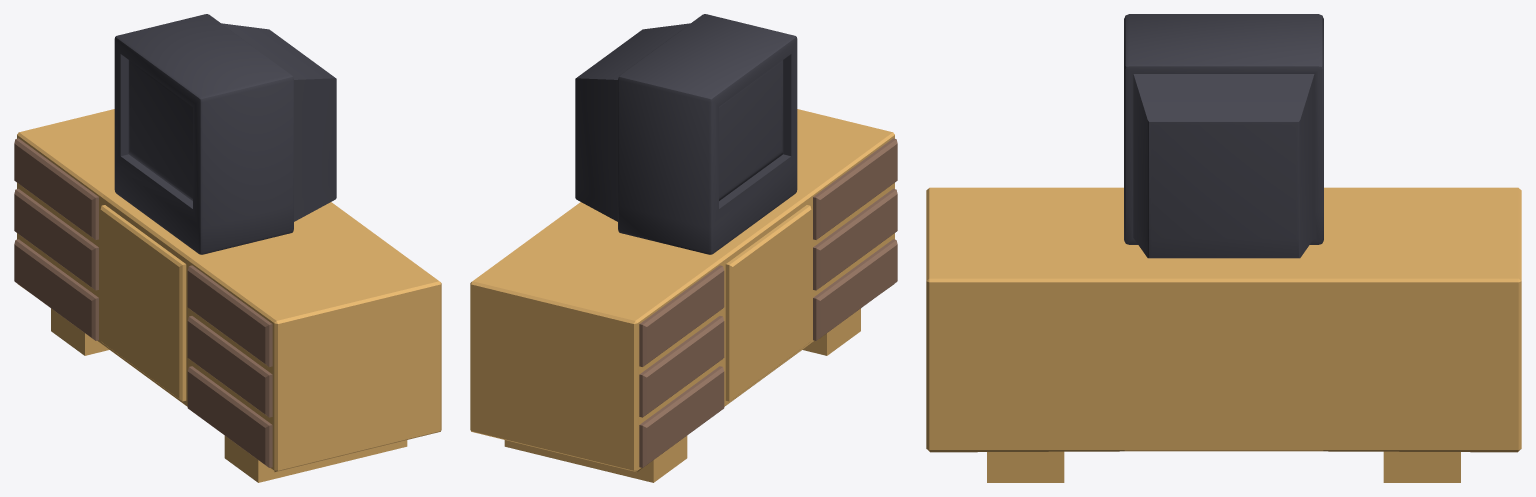
The model's file is MP_Environ_TV.fbx.
The picture shows the model from 3 angles, left to right: view 1: azimuth 30°, elevation 25°; view 2: azimuth 150°, elevation 25°; view 3: azimuth 270°, elevation 25°; orthographic projection. The views are drawn at different scales.
Visible parts, largest first — view 1: Console, Cube; view 2: Console, Cube; view 3: Console, Cube.
Boxes of the visible parts, box(x1,y1,x2,y2) form: Console: box(14, 109, 441, 482); Cube: box(114, 14, 336, 254); Console: box(470, 109, 897, 482); Cube: box(575, 14, 797, 254); Console: box(926, 187, 1521, 482); Cube: box(1124, 14, 1323, 258).
Bounding box in the file's own units: 46.81 × 87.81 × 122.
